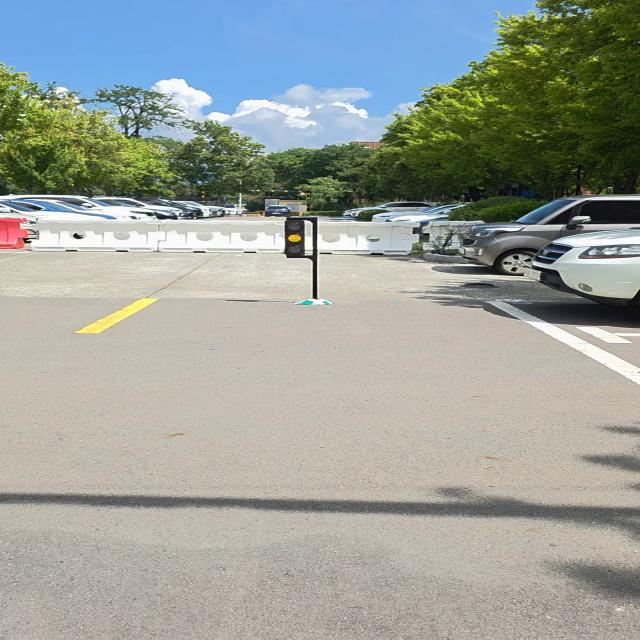yellow: (283, 220, 307, 257)
